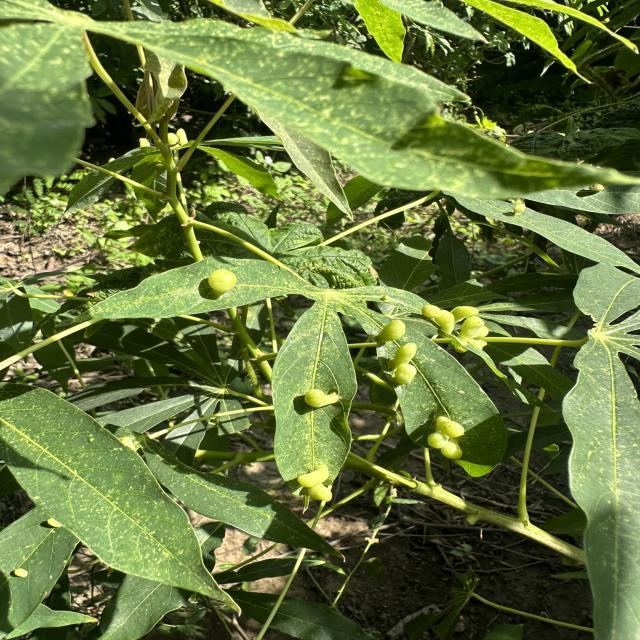Mosca: (424, 287, 516, 354), (357, 302, 420, 385), (302, 355, 363, 434), (411, 407, 482, 474), (122, 114, 215, 162), (289, 455, 358, 517), (202, 255, 257, 306), (498, 171, 550, 217), (5, 549, 48, 604), (30, 494, 82, 536), (573, 160, 616, 193)
